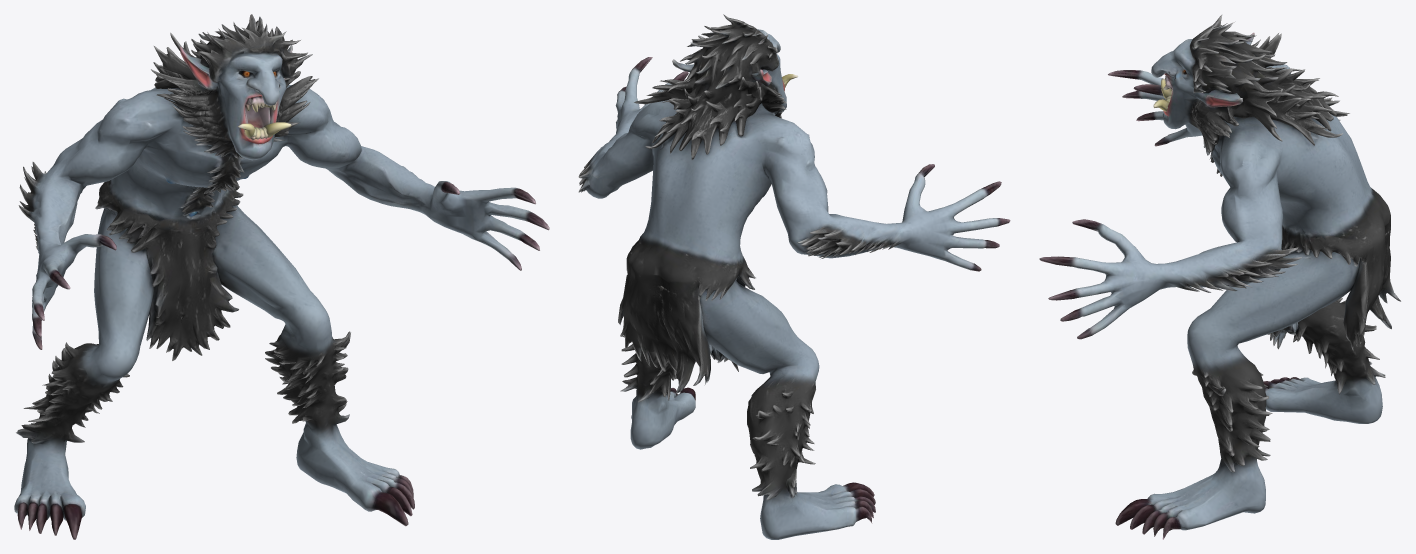
The model's file is MZ4250 - Ice Troll.glb.
3 renders of one model, left to right at view 1: azimuth 30°, elevation 25°; view 2: azimuth 150°, elevation 25°; view 3: azimuth 270°, elevation 25°, orthographic. The views are drawn at different scales.
Visible parts, largest first — view 1: Body.004; view 2: Body.004; view 3: Body.004.
Part boxes in pixels (x1,y1,x2,y2): Body.004: (14,14,549,539); Body.004: (578,14,1010,539); Body.004: (1039,14,1400,539).
Size of the model in its own units: 60.6 by 60.39 by 44.16.
1 material, 1 textured.
